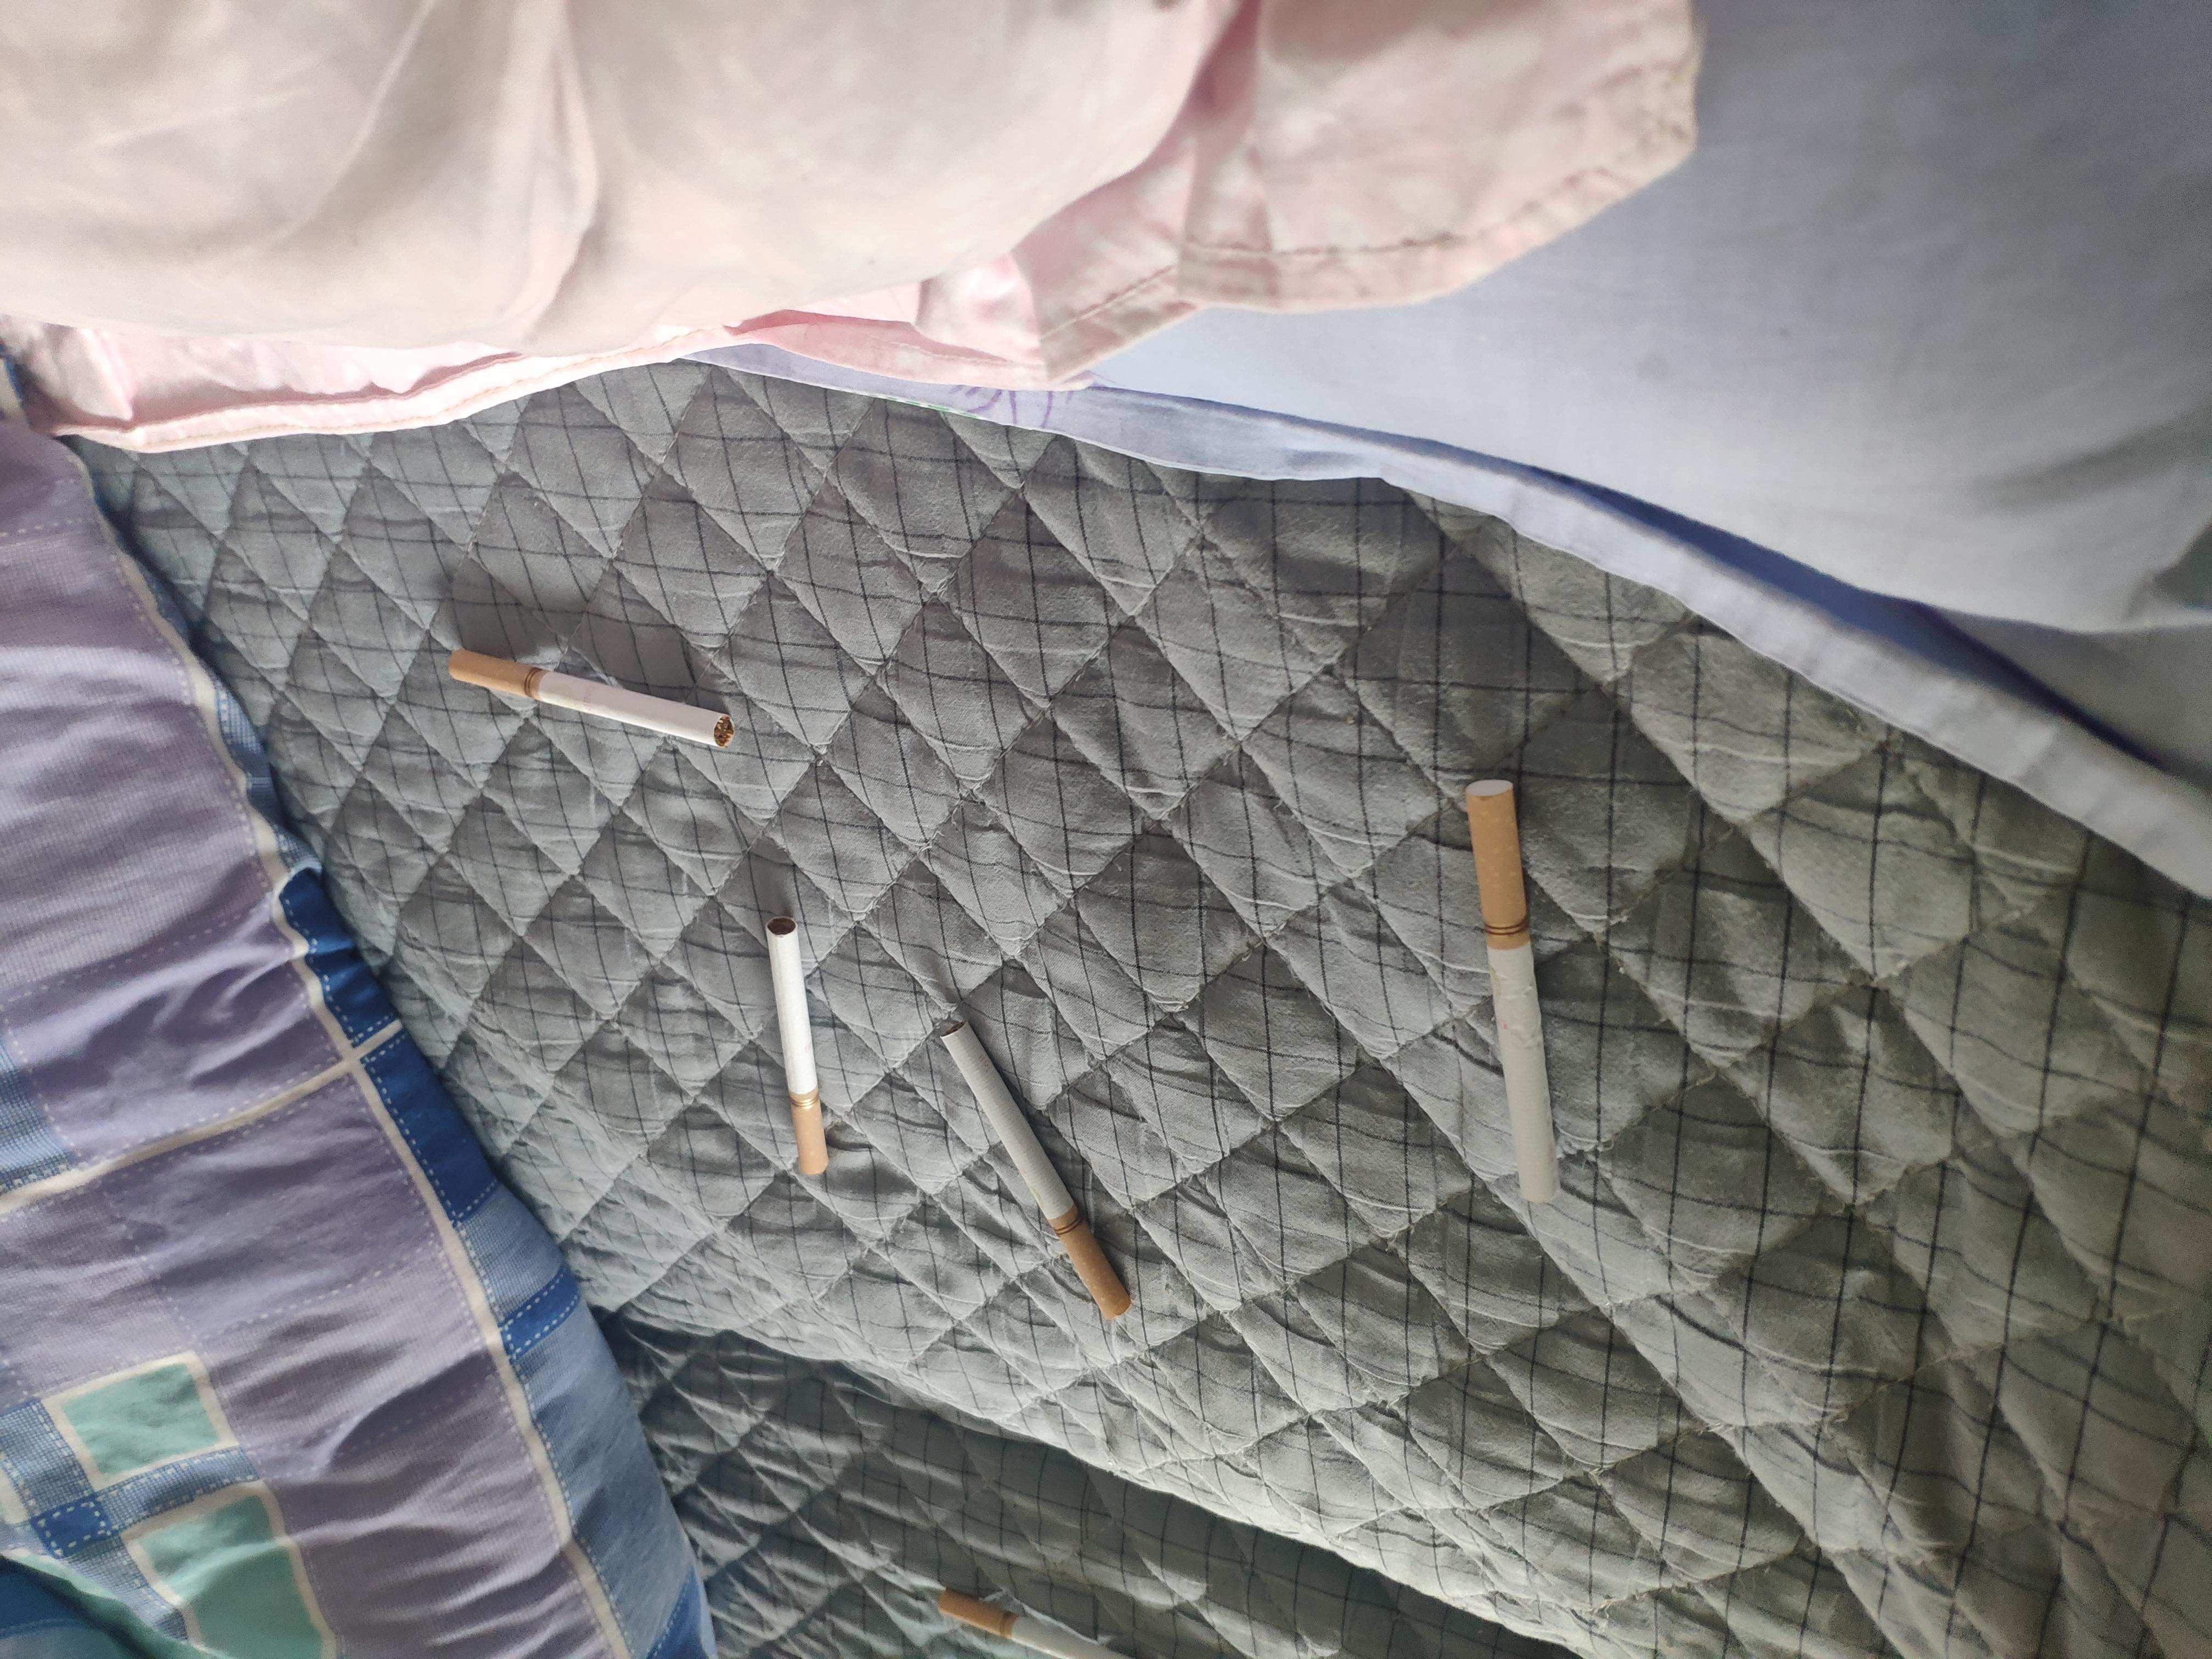smoke: (1080, 338, 1275, 640), (650, 457, 749, 880), (1480, 910, 1766, 1012), (1385, 484, 1447, 746), (1075, 0, 1278, 73)
